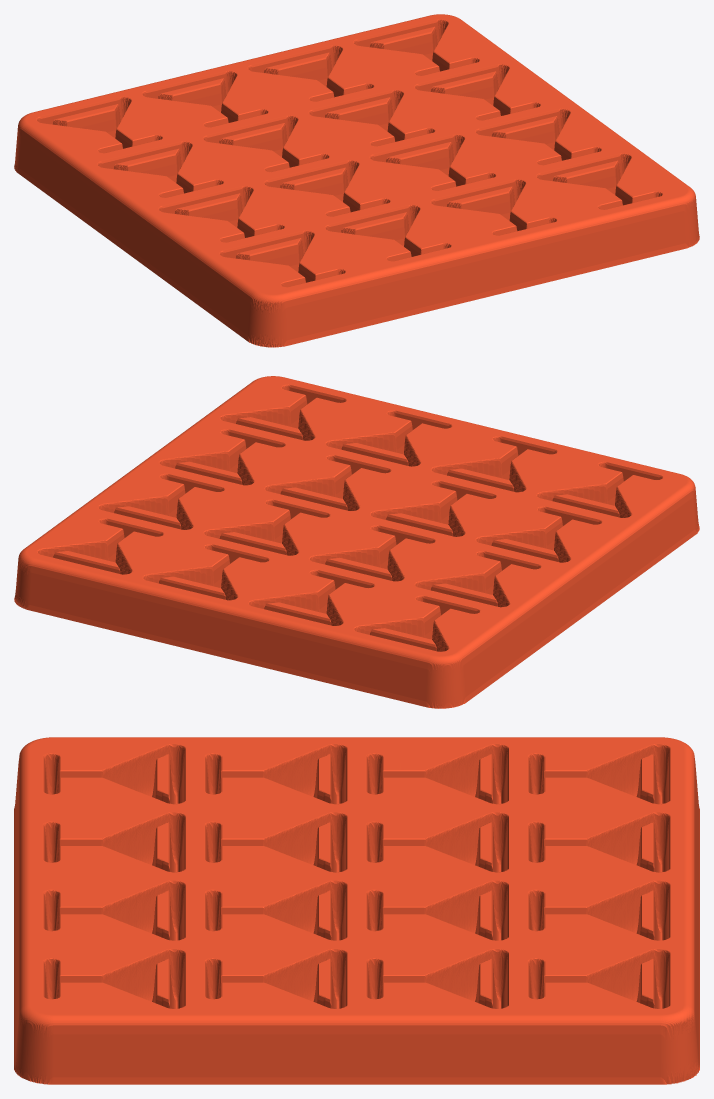
Rendered from mold.glb.
The picture shows the model from 3 angles, top to bottom: view 1: azimuth 30°, elevation 25°; view 2: azimuth 150°, elevation 25°; view 3: azimuth 270°, elevation 25°; orthographic projection. The views are drawn at different scales.
Visible parts, largest first — view 1: geometry_0; view 2: geometry_0; view 3: geometry_0.
Boxes of the visible parts, x1,y1,x2,y2 form: geometry_0: (14, 14, 699, 347); geometry_0: (14, 376, 699, 708); geometry_0: (14, 737, 699, 1084).
Size of the model in its own units: 0.1569 by 0.0159 by 0.1569.
